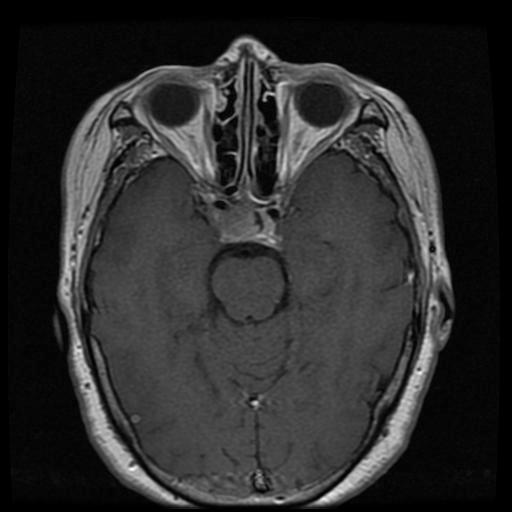Tumour-Pituitary: (195, 190, 293, 251)
